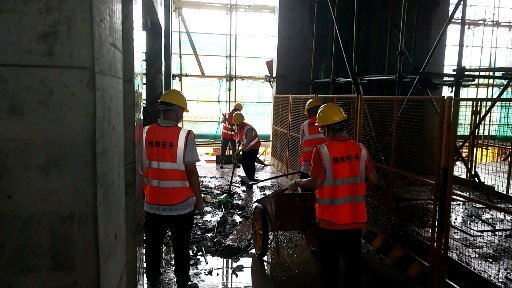helmet: (315, 104, 349, 126), (159, 89, 188, 111), (303, 97, 318, 110), (232, 112, 245, 125), (233, 100, 243, 111)
hopper: (251, 182, 311, 262)
person: (133, 87, 205, 288), (312, 104, 374, 231), (291, 94, 321, 195), (231, 112, 263, 189), (215, 97, 243, 167)
vest: (315, 139, 372, 224), (144, 120, 196, 202), (298, 117, 325, 166), (237, 124, 259, 154), (223, 111, 237, 140)
